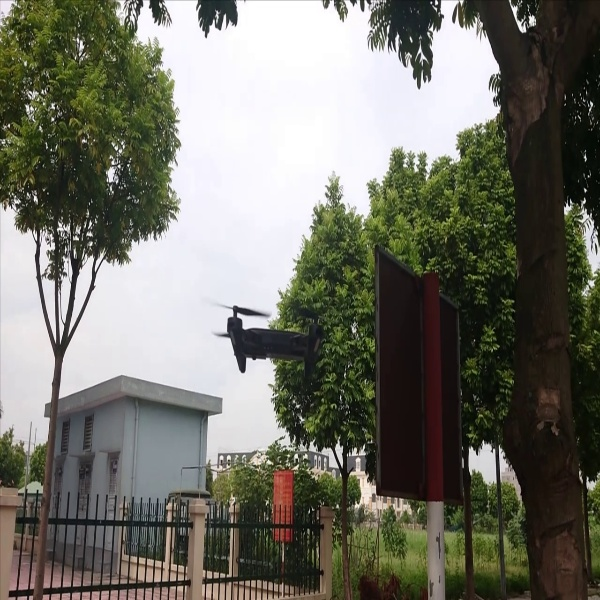drone: (201, 288, 338, 377)
